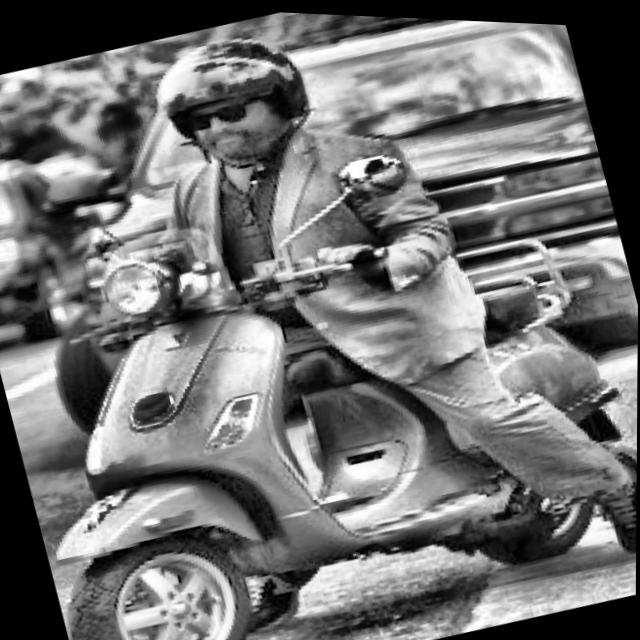motorcycle: (0, 74, 640, 640)
